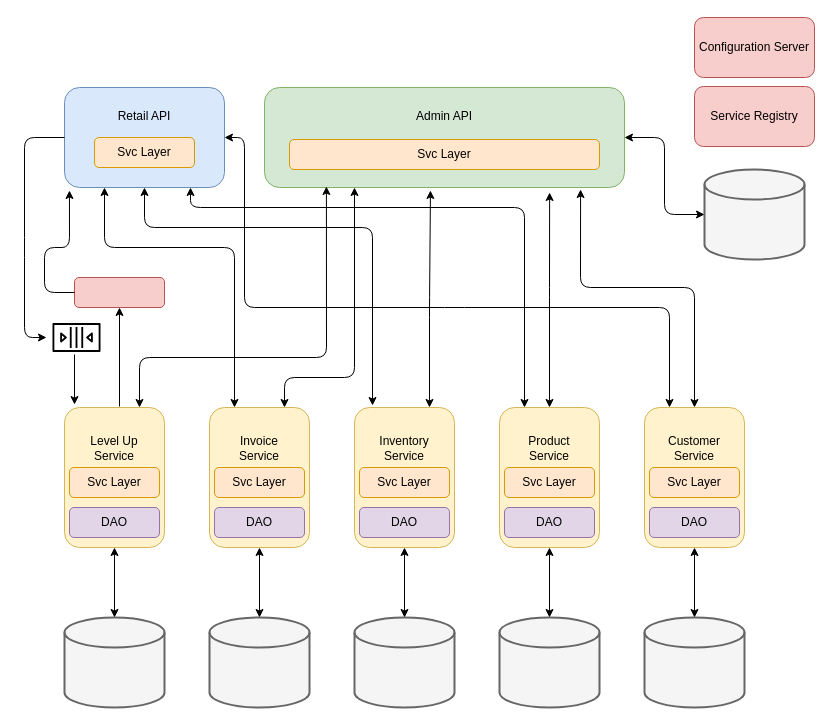
Image size: 832x726. Some labels were removed from this diagram. The centre of each missing label's shape, as x and y in pixels:
Circuit Breaker: point 119,292
Customer Database: point 694,662
Inventory Database: point 404,662
Invoice Database: point 259,662
Level Up Database: point 114,662
Product Database: point 549,662
Security Database: point 754,214
